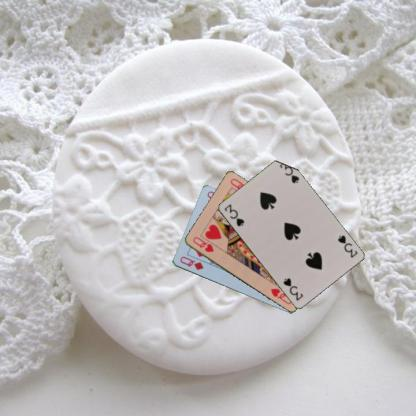3s: (221, 202, 246, 228), (335, 232, 359, 259)
Qd: (178, 254, 204, 272)
Qh: (190, 234, 215, 254)
